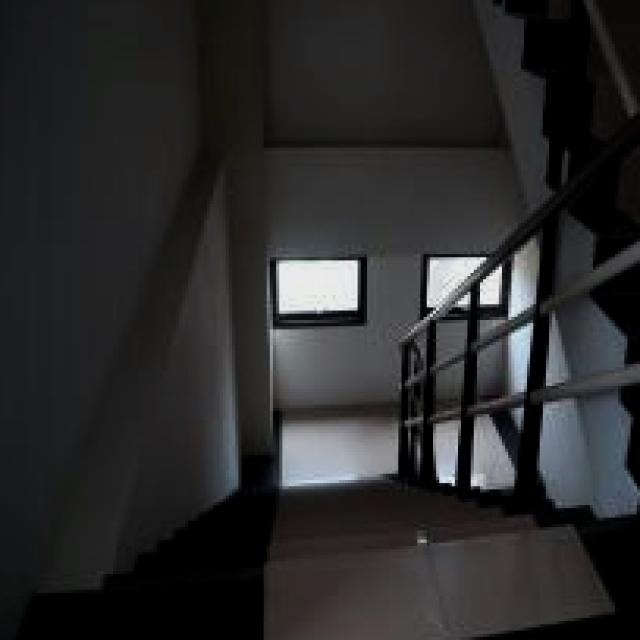downstair: (171, 478, 535, 640)
